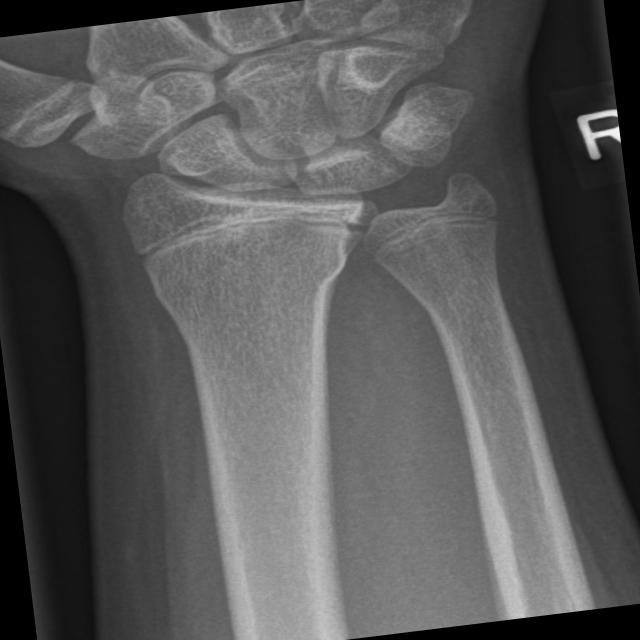fracture: (110, 170, 388, 286), (348, 183, 516, 271)
